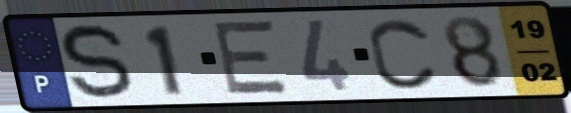1: (142, 22, 186, 98)
4: (297, 16, 354, 96)
8: (440, 14, 504, 90)
C: (365, 15, 442, 92)
E: (211, 18, 292, 98)
S: (57, 21, 137, 103)
